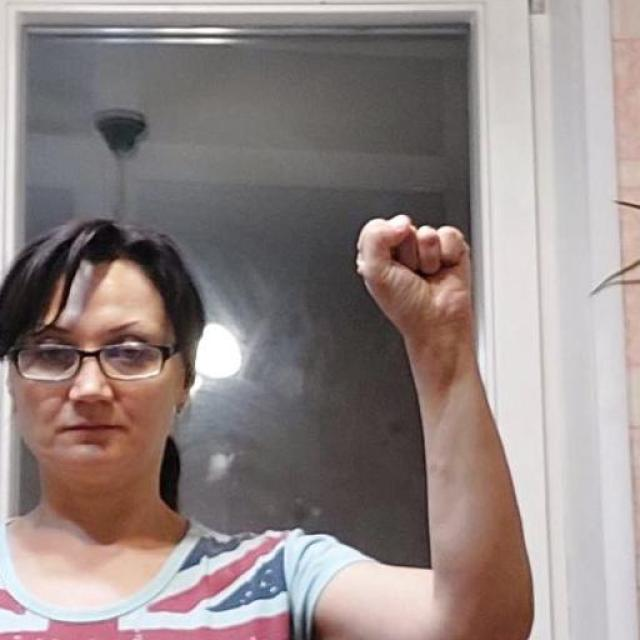hand: (353, 212, 478, 390)
